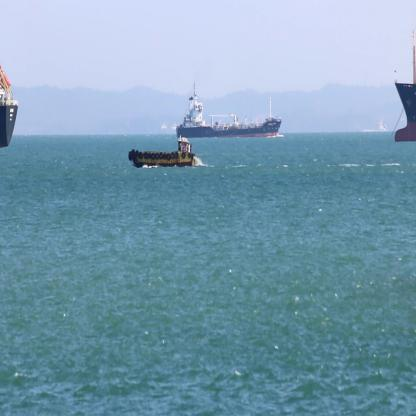Container Ship: (176, 79, 282, 138), (394, 29, 416, 142), (0, 65, 18, 148)
